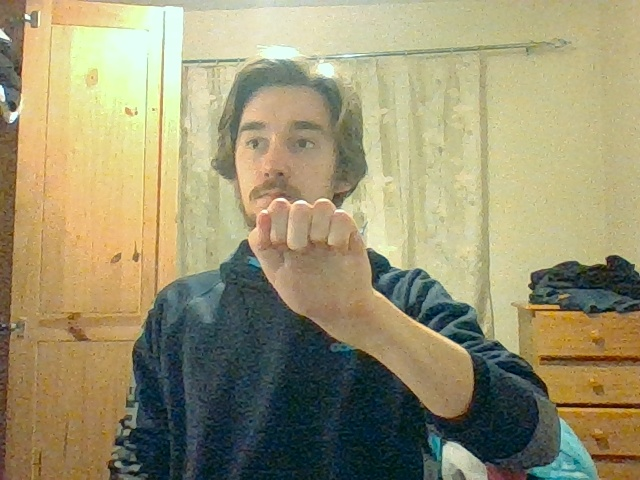your: (245, 197, 371, 293)
